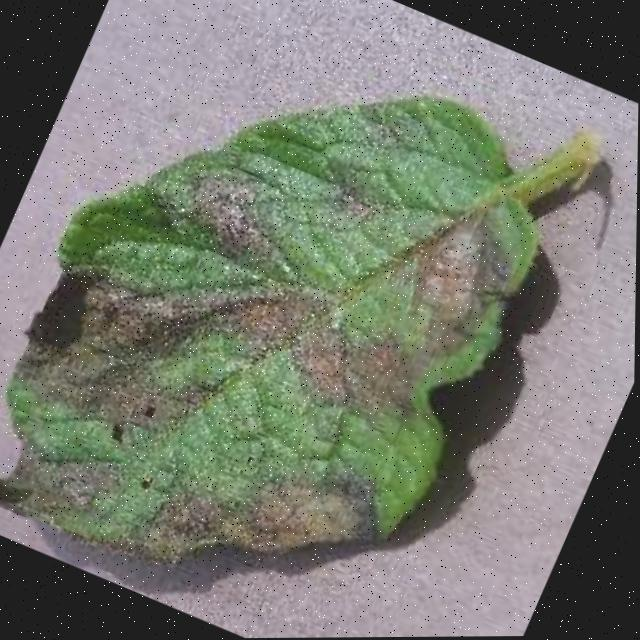Late_blight: (86, 406, 412, 639), (162, 255, 439, 451), (0, 253, 222, 460), (360, 188, 539, 389), (149, 152, 349, 308), (0, 395, 121, 551)
